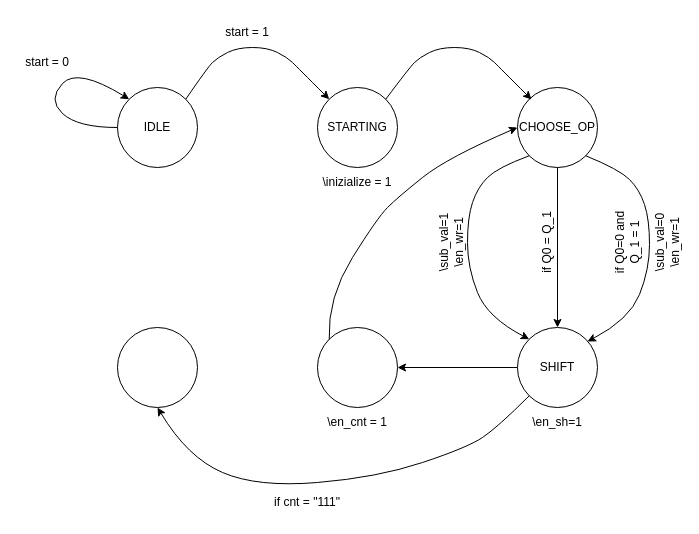
This 699x534 diagram has some shape labels left out. The shapes that lost their labels are listed below. From the top down, each one's box as (x1, y1, x2, y2) in pixels, then its label:
(116, 326, 198, 408): RESULT
(316, 326, 398, 408): COUNT
